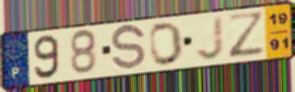8: (68, 29, 99, 78)
9: (32, 34, 61, 80)
J: (195, 14, 226, 62)
O: (148, 21, 185, 68)
S: (110, 23, 148, 74)
Z: (226, 10, 268, 61)
